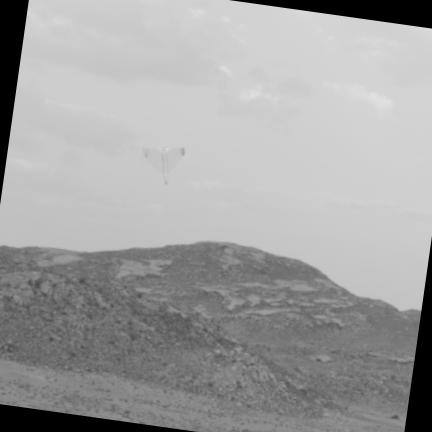Shahed: (143, 146, 184, 183)
